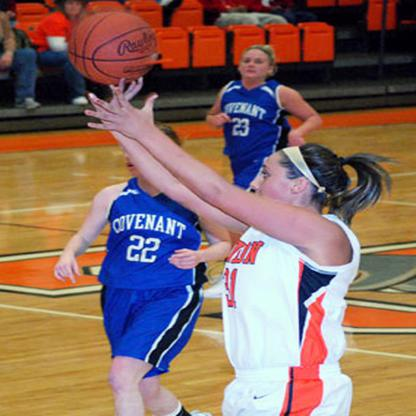face: (250, 154, 293, 220), (242, 50, 269, 78)
